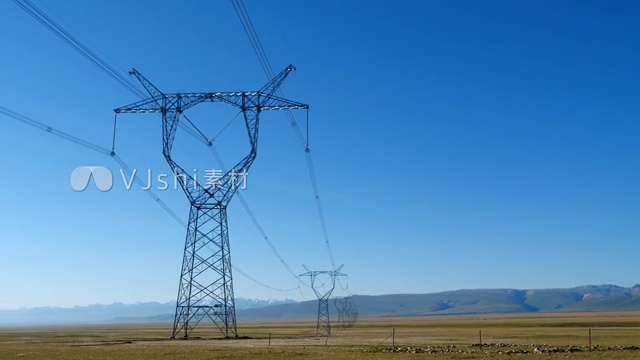tower_body: (110, 60, 314, 344), (294, 260, 356, 341)
tower_foot: (172, 275, 242, 341), (314, 317, 333, 337)
tower_head: (113, 63, 311, 206), (296, 263, 351, 301)
